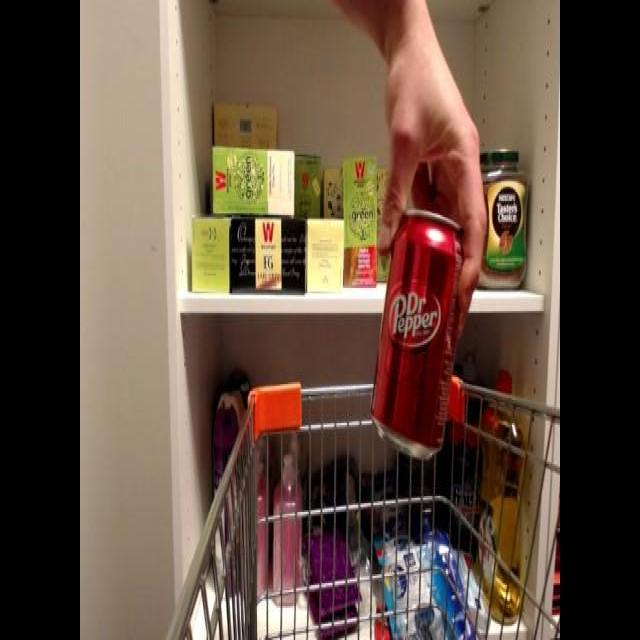Dr Pepper: (364, 206, 478, 460)
